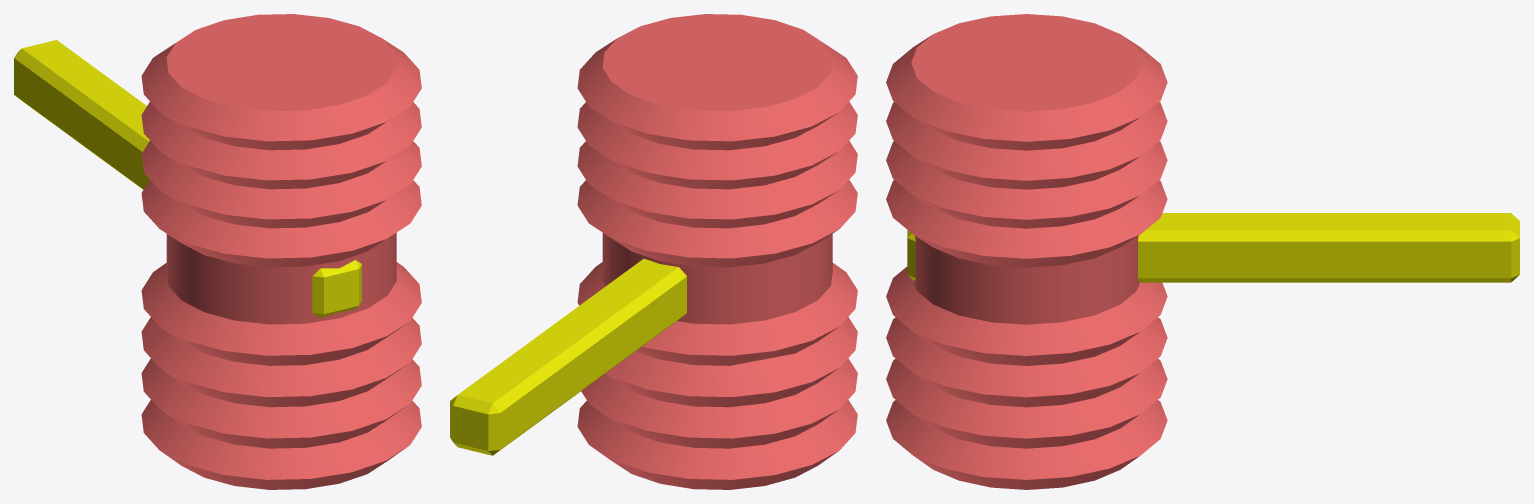
The model's file is PicopicoHammer_01.fbx.
The picture shows the model from 3 angles, left to right: view 1: azimuth 30°, elevation 25°; view 2: azimuth 150°, elevation 25°; view 3: azimuth 270°, elevation 25°; orthographic projection.
Visible parts, largest first — view 1: pCube2; view 2: pCube2; view 3: pCube2.
Part boxes in pixels (<box>): pCube2: <box>14,14,421,489</box>; pCube2: <box>450,14,857,489</box>; pCube2: <box>886,14,1519,489</box>.
Size of the model in its own units: 2.44 by 3.61 by 5.48.
